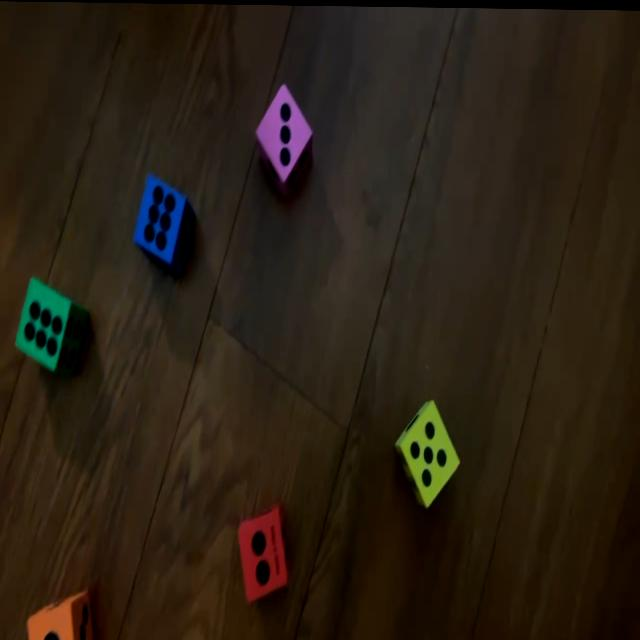blue_block: (133, 172, 197, 270)
red_block: (240, 499, 290, 606)
